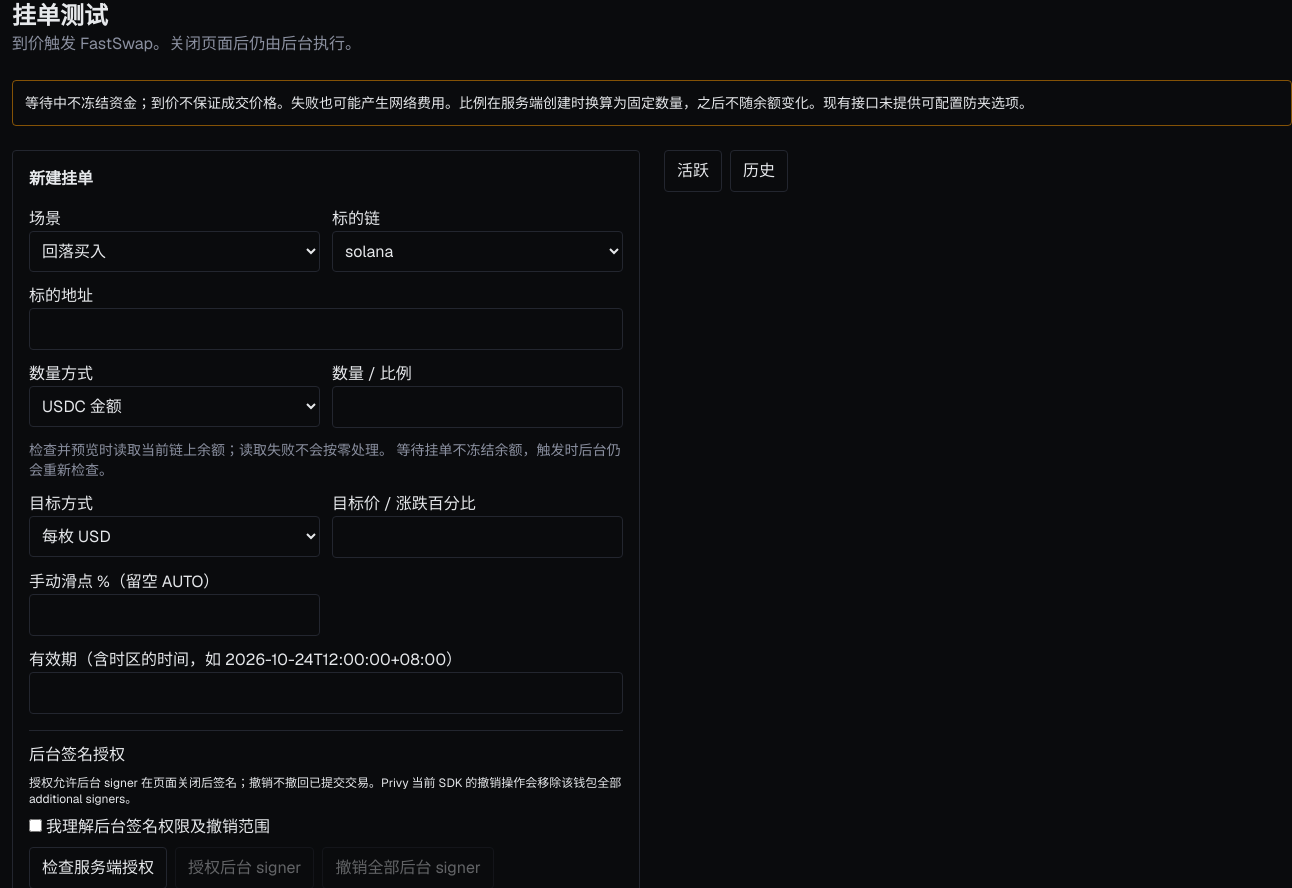
Scenario: checks the single order against raw balance: exact
The width and height of the screenshot is (1292, 888).
Type "So11111111111111111111111111111111111111112" into the field labelled "标的地址" at (326, 329), box [29,308,623,350]
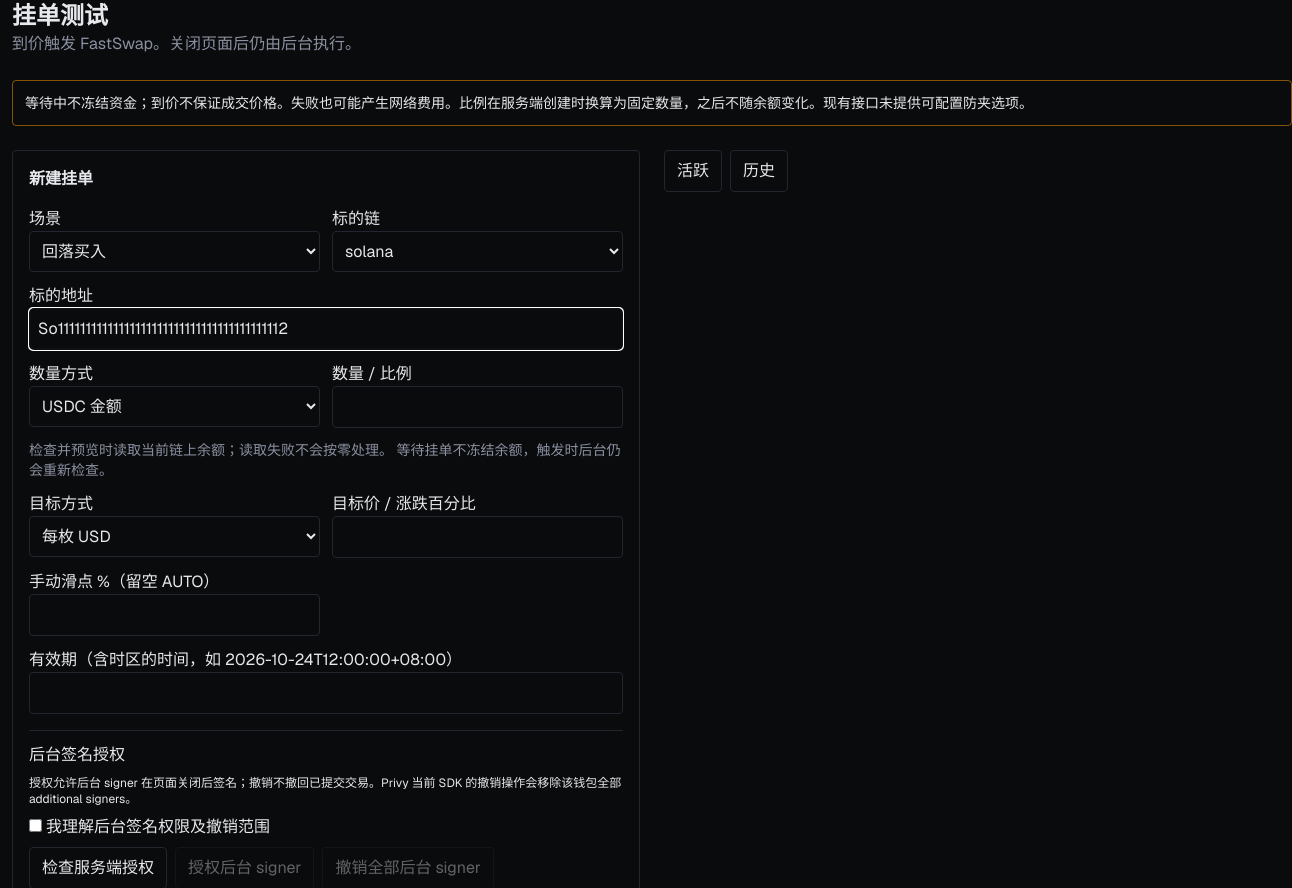
Type "1" into the field labelled "数量 / 比例" at (478, 407), box [332,386,623,428]
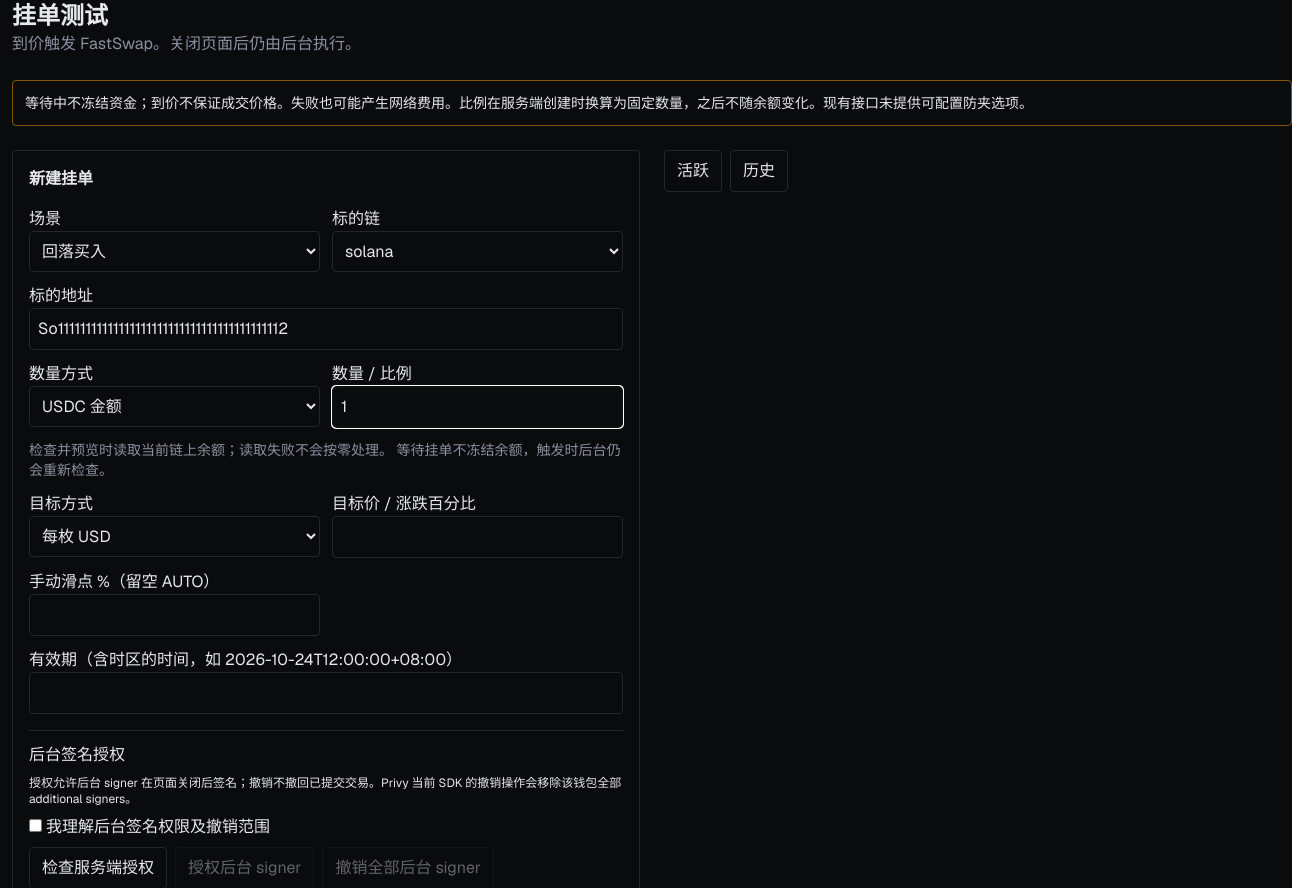
Type "2" into the field labelled "目标价 / 涨跌百分比" at (478, 537), box [332,516,623,558]
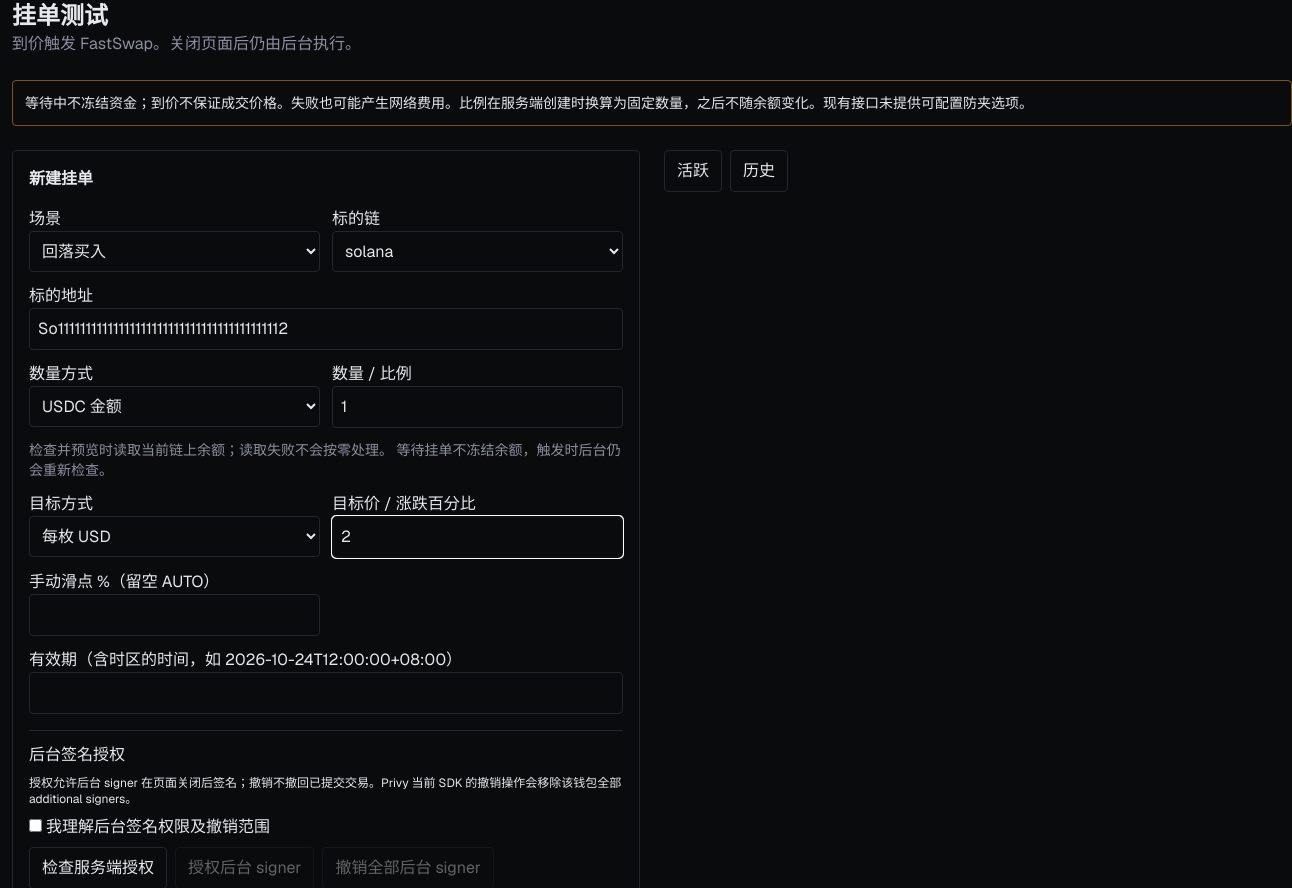
Type "2030-01-01T00:00:00Z" into the field labelled "有效期（含时区的时间，如 2026-10-24T12:00:00+08:00）" at (326, 693), box [29,672,623,714]
(page scrolled)
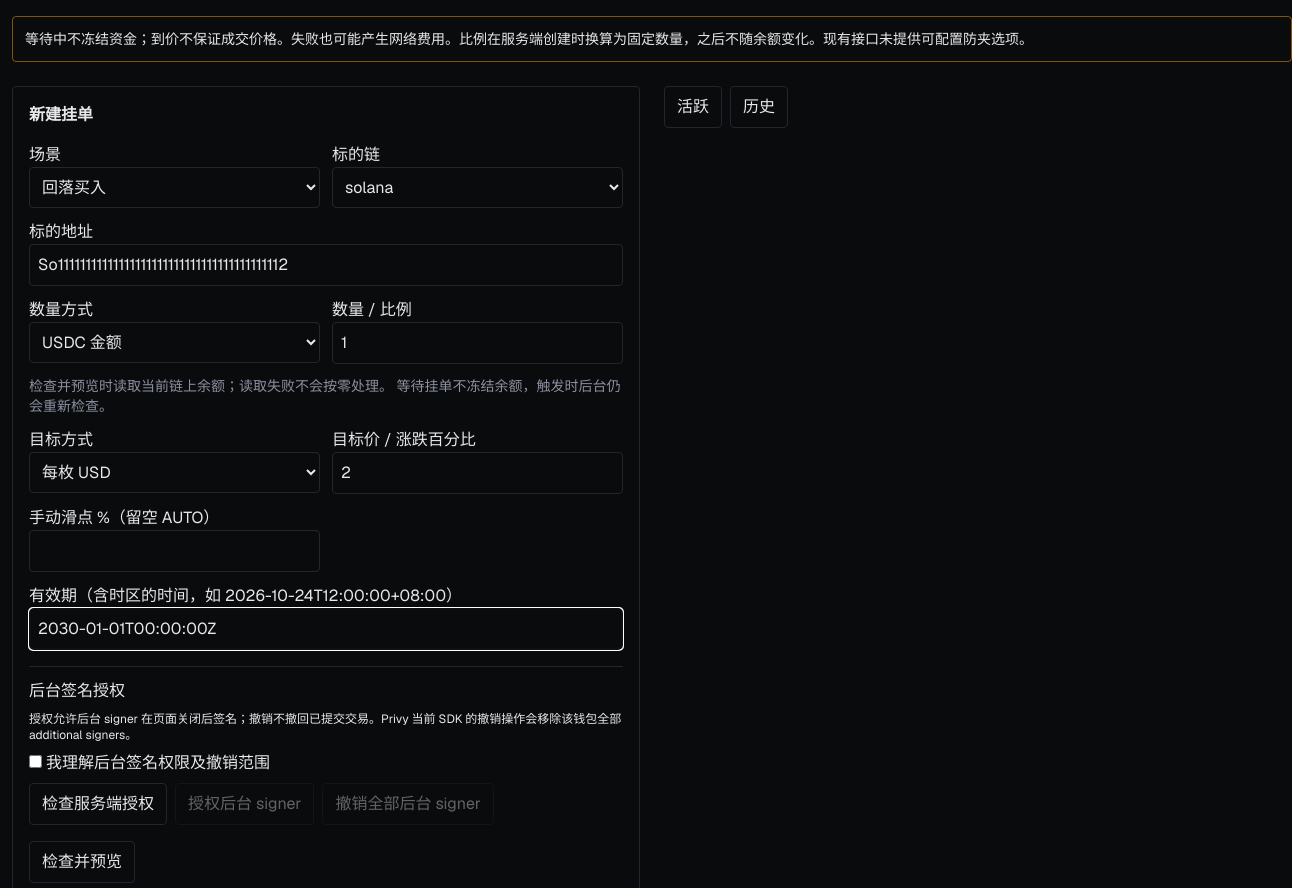
Click the button "检查并预览" at (82, 862), box [29,841,135,883]
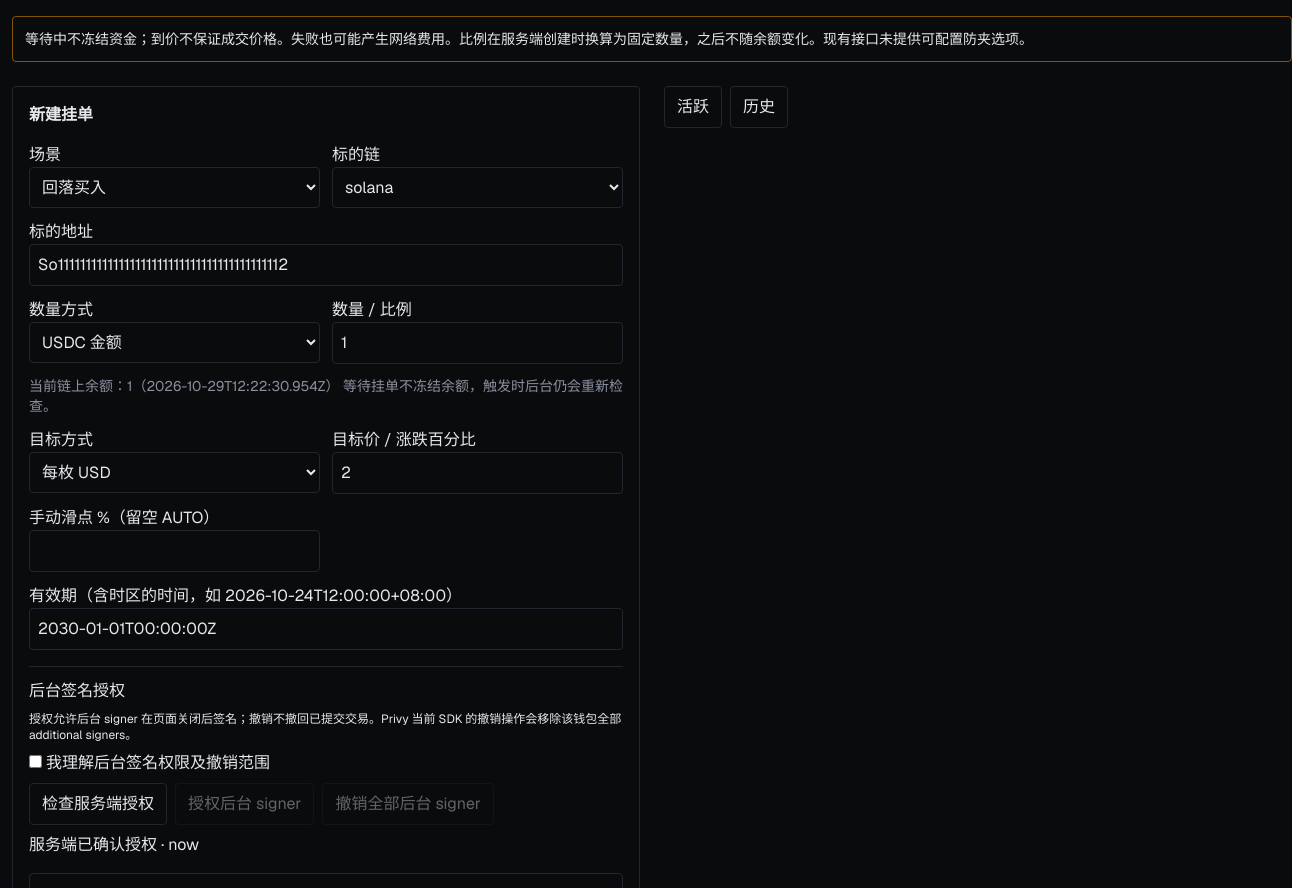
Expected: the text "当前链上余额：1（2026-10-29T12:22:30.954Z） 等待挂单不冻结余额，触发时后台仍会重新检查。" is shown, [29,376,623,416]
